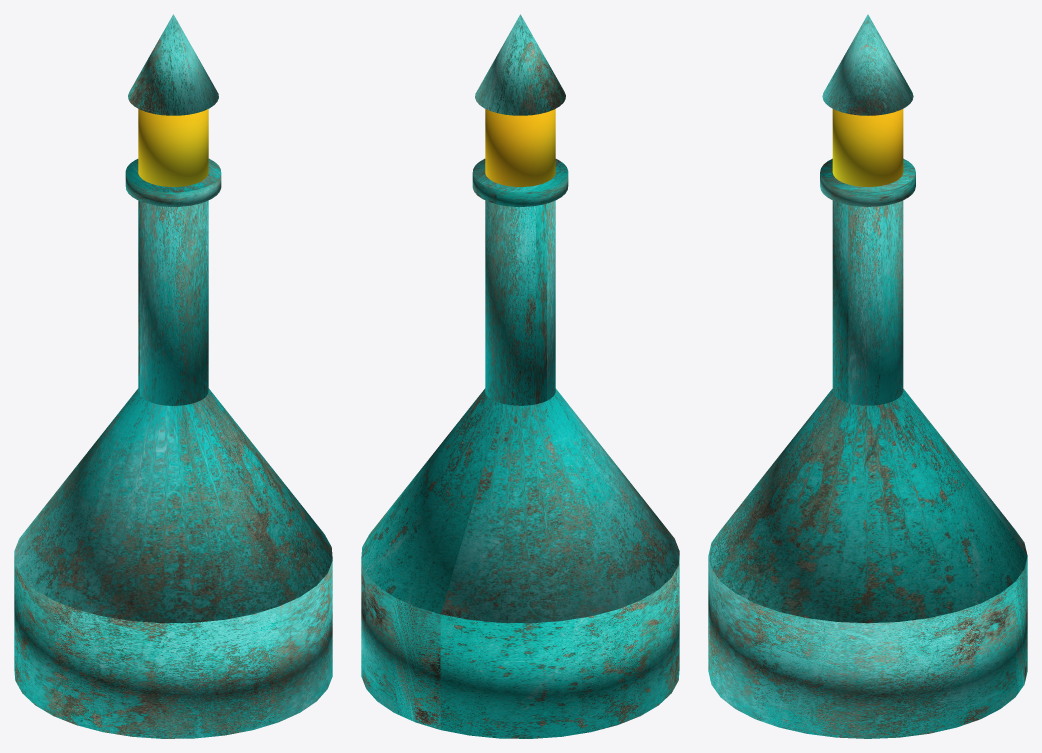
File: Niebieska Boja morska.fbx
3 renders of one model, left to right at view 1: azimuth 30°, elevation 25°; view 2: azimuth 150°, elevation 25°; view 3: azimuth 270°, elevation 25°, orthographic.
Visible parts, largest first — view 1: Cylinder.001, Cylinder, Cylinder.002, Cone, Cylinder.004, Cylinder.003; view 2: Cylinder.001, Cylinder, Cylinder.002, Cone, Cylinder.004, Cylinder.003; view 3: Cylinder.001, Cylinder, Cylinder.002, Cone, Cylinder.004, Cylinder.003.
Boxes of the visible parts, x1,y1,x2,y2 form: Cylinder.001: [14, 388, 332, 623]; Cylinder: [14, 555, 332, 738]; Cylinder.002: [138, 200, 208, 405]; Cone: [128, 14, 218, 115]; Cylinder.004: [138, 109, 208, 186]; Cylinder.003: [125, 158, 221, 206]; Cylinder.001: [361, 388, 679, 623]; Cylinder: [361, 555, 679, 738]; Cylinder.002: [485, 200, 555, 405]; Cone: [475, 14, 565, 115]; Cylinder.004: [485, 109, 555, 186]; Cylinder.003: [472, 158, 568, 206]; Cylinder.001: [708, 389, 1027, 623]; Cylinder: [708, 556, 1027, 738]; Cylinder.002: [832, 200, 903, 405]; Cone: [822, 14, 913, 115]; Cylinder.004: [832, 109, 903, 186]; Cylinder.003: [820, 158, 915, 206].
Bounding box in the file's own units: 200 × 455 × 200.
Materials: 2 (2 with a texture image).
